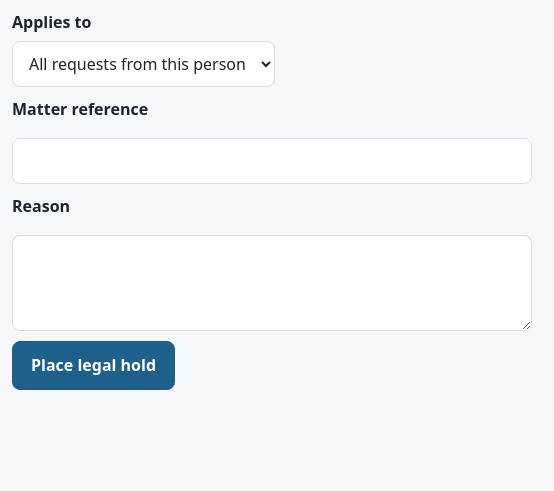
Scenario: LegalHoldForm › tells a role without permission that it can't place holds
This screenshot has width=554, height=491.
Type "  LIT-2026-014 " into the field labelled "Matter reference" at (272,161), box [12,138,532,184]
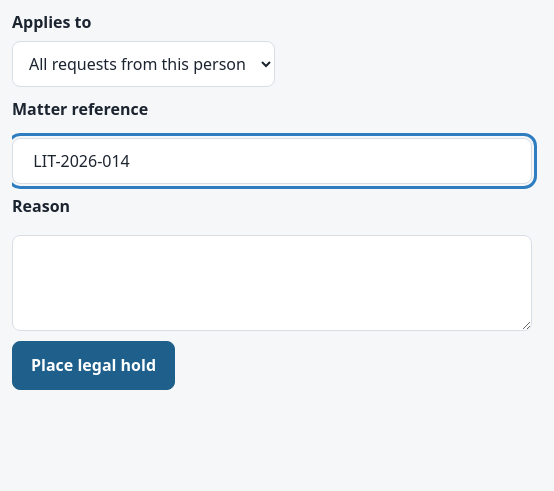
Type " Pending litigation hold. " into the text box labelled "Reason" at (272,283), box [12,235,532,331]
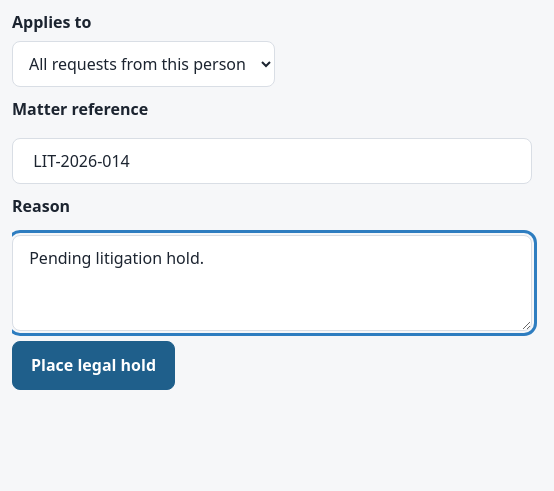
Click the button "Place legal hold" at (94,366), box [12,341,175,390]
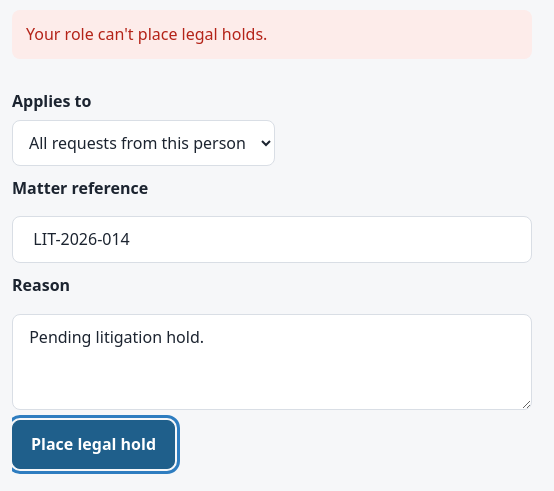
Now the message reads "Your role can't place legal holds.", box [26,23,267,45]
